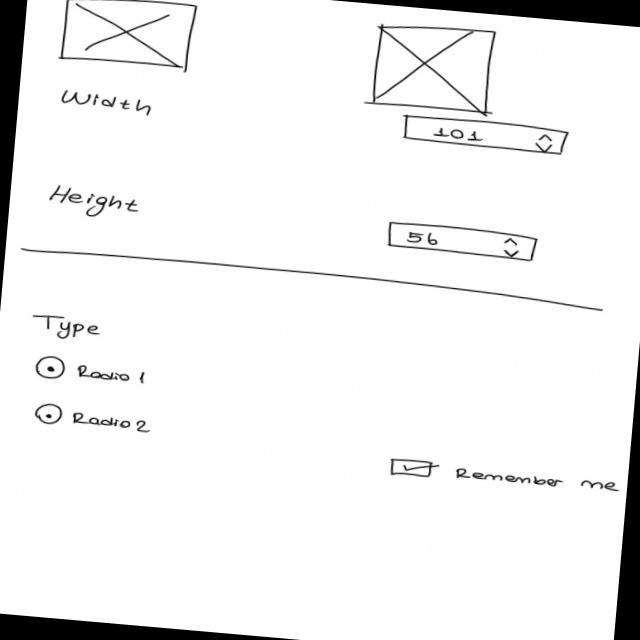checkbox: (387, 456, 625, 497)
image: (369, 21, 500, 118), (58, 1, 200, 73)
label: (45, 184, 145, 223), (59, 88, 156, 119), (30, 313, 105, 344)
number-input: (402, 113, 572, 158), (385, 221, 540, 265)
radio: (33, 402, 156, 436), (35, 354, 149, 390)
